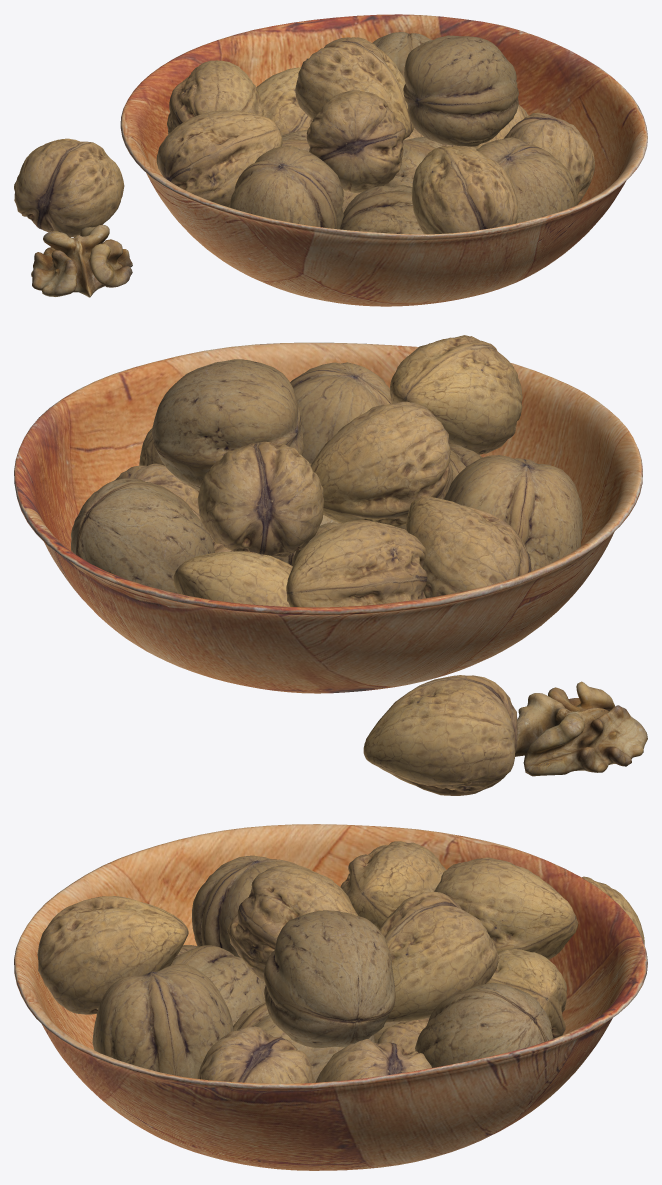
File: nueces.glb
The picture shows the model from 3 angles, top to bottom: view 1: azimuth 30°, elevation 25°; view 2: azimuth 150°, elevation 25°; view 3: azimuth 270°, elevation 25°; orthographic projection. The views are drawn at different scales.
Visible parts, largest first — view 1: Object_3, Object_6, Object_4, Object_5, Object_2; view 2: Object_3, Object_6, Object_4, Object_5, Object_2; view 3: Object_3, Object_4, Object_6, Object_5.
Part boxes in pixels (left/top/right/bottom): Object_3: left=120, top=14, right=647, bottom=306; Object_6: left=14, top=60, right=518, bottom=237; Object_4: left=229, top=32, right=577, bottom=234; Object_5: left=156, top=37, right=594, bottom=207; Object_2: left=31, top=224, right=132, bottom=297; Object_3: left=14, top=342, right=642, bottom=693; Object_6: left=173, top=335, right=522, bottom=795; Object_4: left=71, top=359, right=582, bottom=593; Object_5: left=115, top=427, right=532, bottom=598; Object_2: left=515, top=681, right=647, bottom=776; Object_3: left=14, top=824, right=647, bottom=1170; Object_4: left=92, top=855, right=553, bottom=1081; Object_6: left=37, top=857, right=644, bottom=1038; Object_5: left=197, top=841, right=498, bottom=1083.
Bounding box in the file's own units: 0.2692 × 0.0971 × 0.2374.
Materials: 4 (4 with a texture image).
